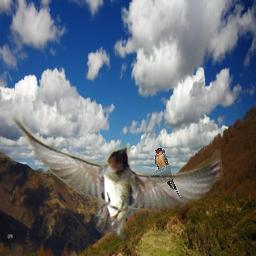Swallow: (9, 114, 225, 243), (154, 147, 181, 198)
